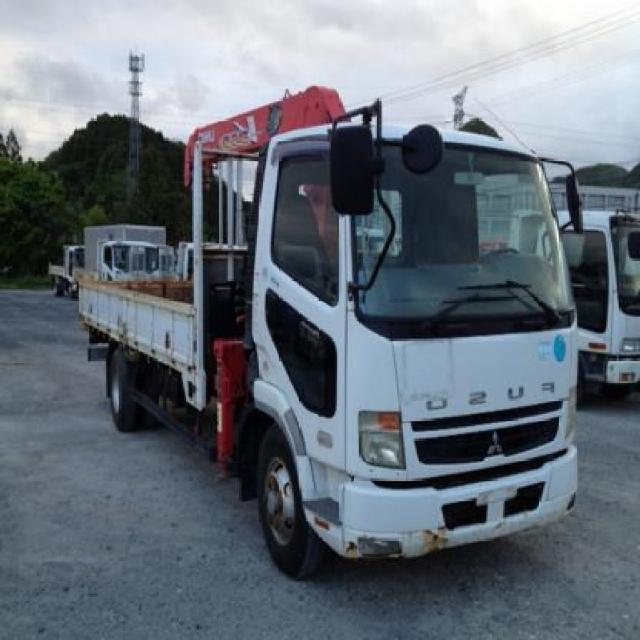truck: (80, 88, 585, 582)
